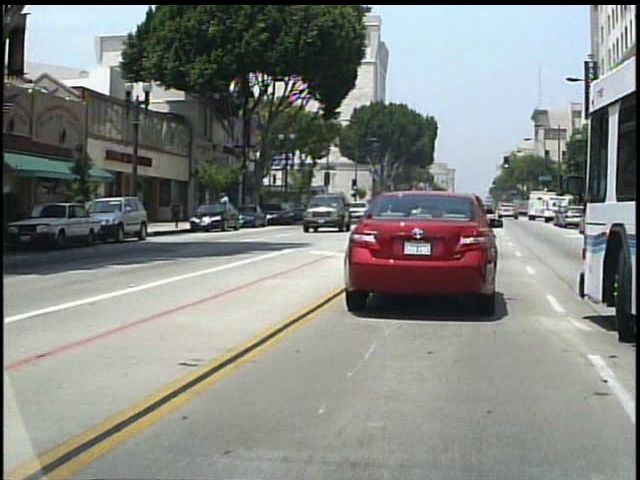person: (223, 190, 236, 223)
